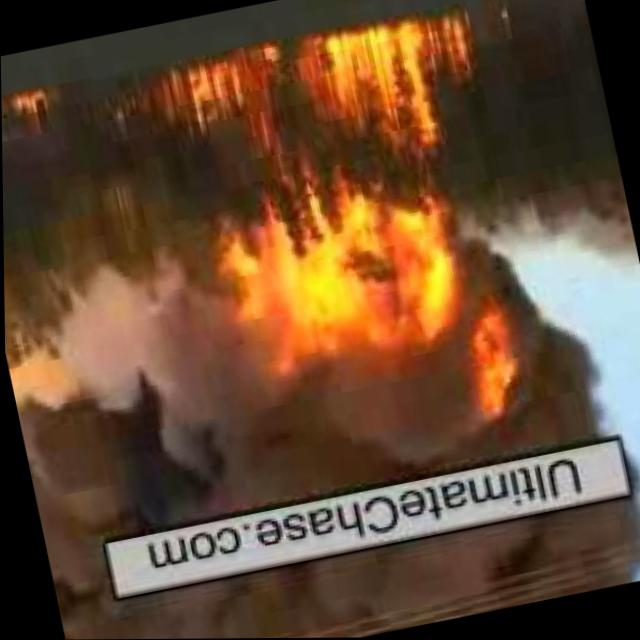Fire: (126, 7, 495, 222), (186, 181, 482, 393), (457, 305, 536, 415), (1, 87, 58, 140)
